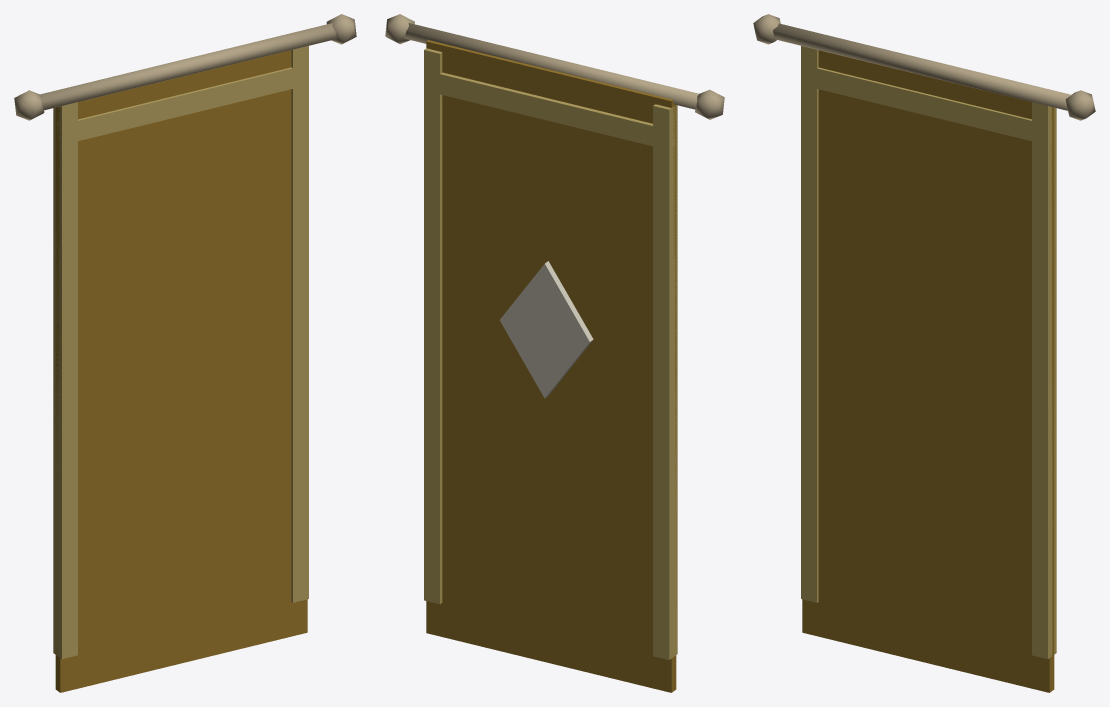
The model's file is ichor_sticker_banner_v0.glb.
3 renders of one model, left to right at view 1: azimuth 30°, elevation 25°; view 2: azimuth 150°, elevation 25°; view 3: azimuth 330°, elevation 25°, orthographic.
Visible parts, largest first — view 1: ichor_sticker_banner_v0; view 2: ichor_sticker_banner_v0; view 3: ichor_sticker_banner_v0.
Part boxes in pixels (box(x1,y1,x2,y2)): ichor_sticker_banner_v0: box(14, 14, 356, 692); ichor_sticker_banner_v0: box(385, 14, 724, 692); ichor_sticker_banner_v0: box(753, 14, 1095, 692).
Bounding box in the file's own units: 1.04 × 1.8 × 0.0933.
